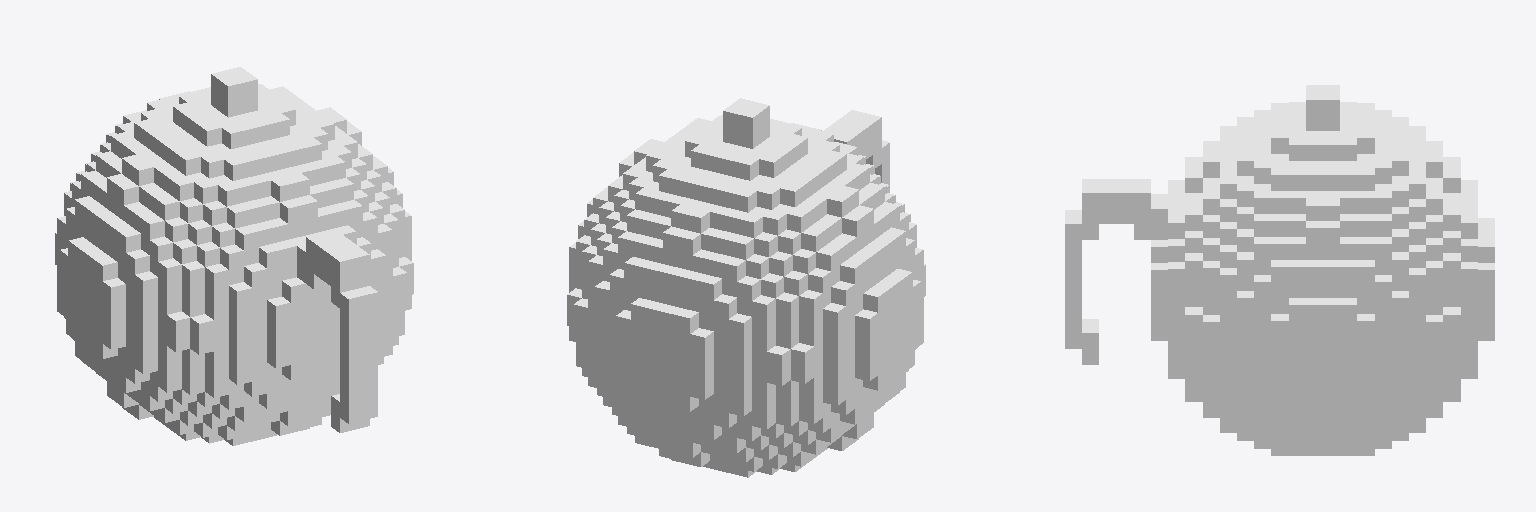
The model's file is teapot_2.obj.
3 renders of one model, left to right at view 1: azimuth 30°, elevation 25°; view 2: azimuth 150°, elevation 25°; view 3: azimuth 270°, elevation 25°, orthographic.
Visible parts, largest first — view 1: object 1; view 2: object 1; view 3: object 1.
Part boxes in pixels (bbox=[...]): object 1: bbox=[55, 67, 413, 445]; object 1: bbox=[567, 98, 925, 477]; object 1: bbox=[1065, 85, 1494, 455].
Size of the model in its own units: 2 by 2.1 by 2.5.